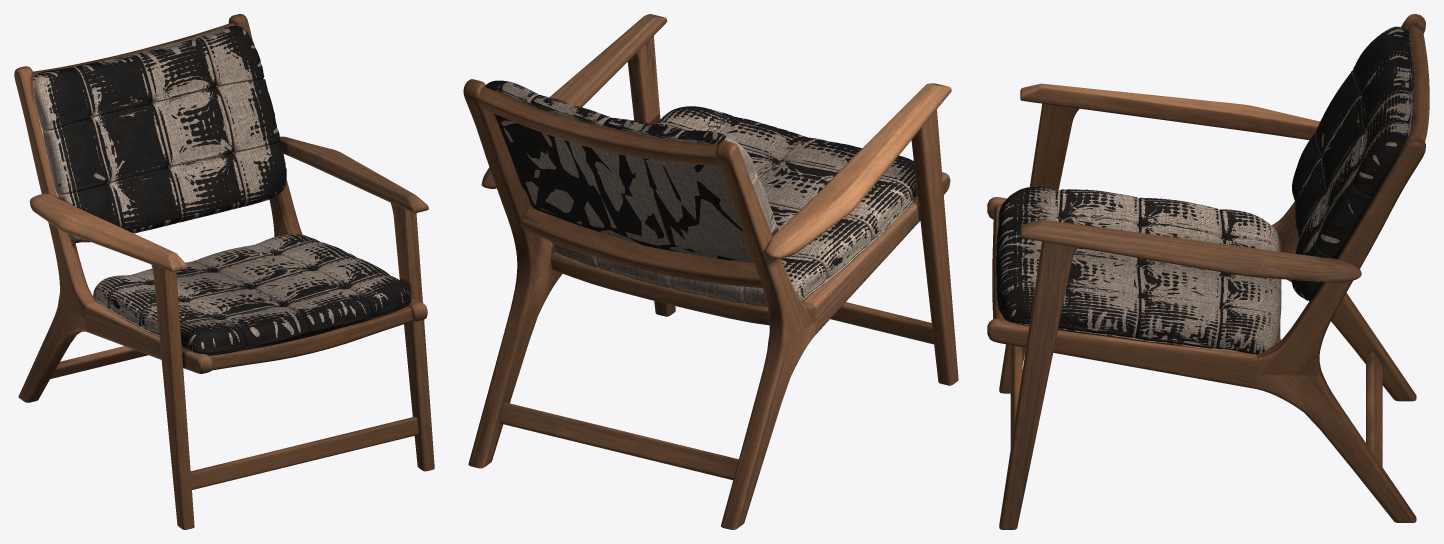
Rendered from chair.gltf.
3 views of the same model, side by side, from view 1: azimuth 30°, elevation 25°; view 2: azimuth 150°, elevation 25°; view 3: azimuth 270°, elevation 25° (orthographic). The views are drawn at different scales.
Visible parts, largest first — view 1: frame, cushion_back_leather, cushion_back_fabric, cushion_seat_leather, cushion_seat_fabric; view 2: frame, cushion_back_fabric, cushion_seat_fabric, cushion_back_leather, cushion_seat_leather; view 3: frame, cushion_seat_fabric, cushion_seat_leather, cushion_back_leather, cushion_back_fabric.
Part boxes in pixels (x1=…): frame: x1=14, y1=14, x2=434, y2=529; cushion_back_leather: x1=33, y1=26, x2=286, y2=241; cushion_back_fabric: x1=32, y1=27, x2=284, y2=242; cushion_seat_leather: x1=93, y1=234, x2=411, y2=355; cushion_seat_fabric: x1=93, y1=234, x2=409, y2=352; frame: x1=463, y1=14, x2=958, y2=529; cushion_back_fabric: x1=494, y1=82, x2=781, y2=263; cushion_seat_fabric: x1=552, y1=109, x2=917, y2=306; cushion_back_leather: x1=486, y1=80, x2=772, y2=260; cushion_seat_leather: x1=656, y1=106, x2=917, y2=300; frame: x1=987, y1=14, x2=1429, y2=529; cushion_seat_fabric: x1=998, y1=186, x2=1281, y2=353; cushion_seat_leather: x1=996, y1=186, x2=1276, y2=354; cushion_back_leather: x1=1292, y1=26, x2=1413, y2=301; cushion_back_fabric: x1=1293, y1=26, x2=1413, y2=297.
Size of the model in its own units: 0.8577 by 0.9436 by 0.9915.
Materials: 4 (4 with a texture image).
